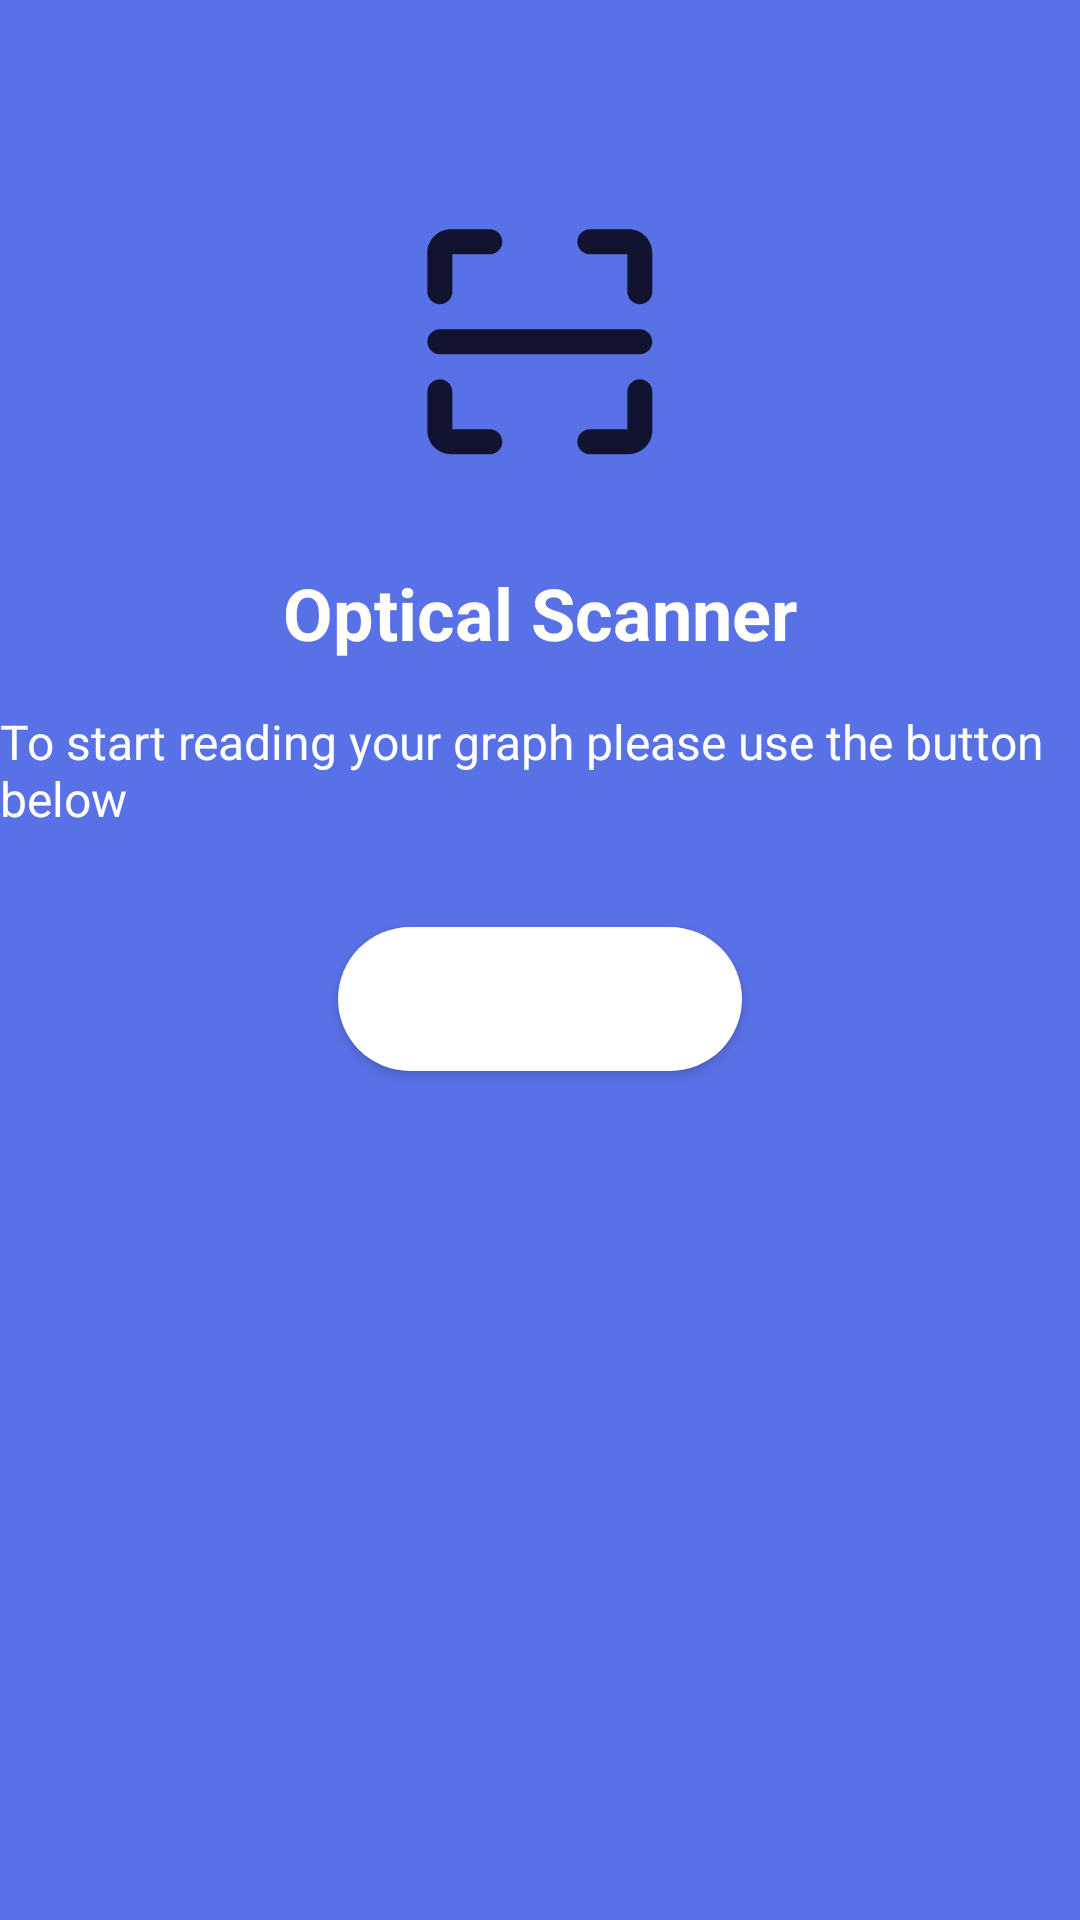

Named icons in this screenshot (1080px×1920px) and their bounding boxes, [left=x1, top=y1, right=x2, bottom=y2]:
document scan: [left=427, top=229, right=653, bottom=455]
